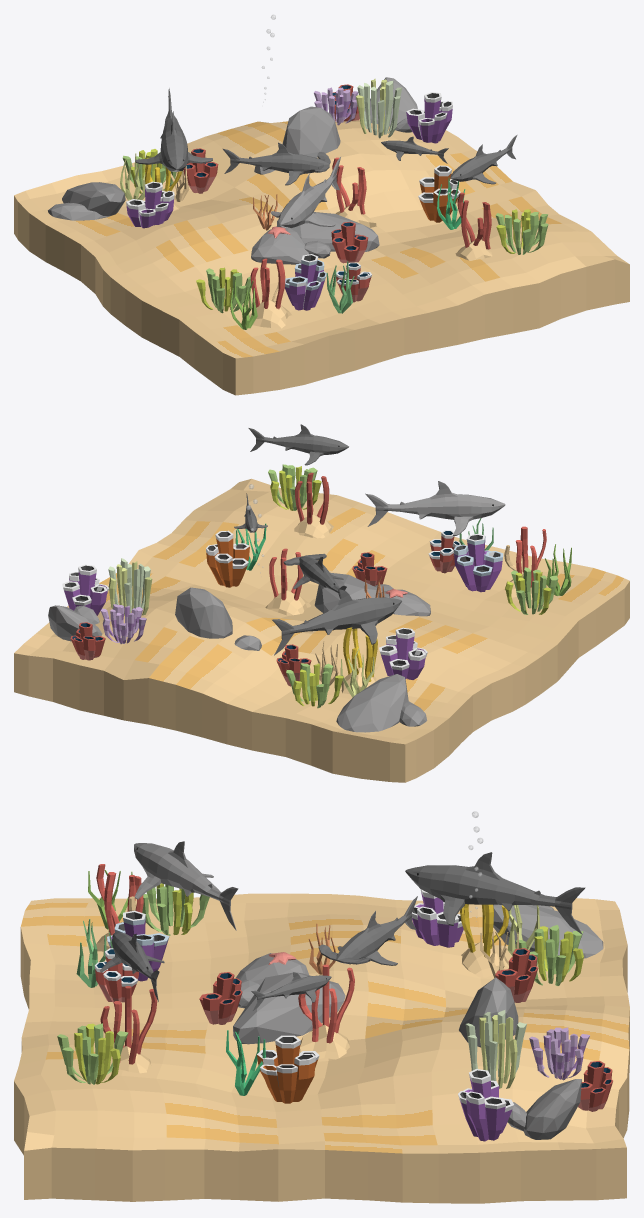
The model's file is vat2.glb.
3 renders of one model, top to bottom at view 1: azimuth 30°, elevation 25°; view 2: azimuth 150°, elevation 25°; view 3: azimuth 270°, elevation 25°, orthographic. The views are drawn at different scales.
Parts seen in each view (by area): view 1: Object_9, Object_6; view 2: Object_9, Object_6; view 3: Object_9, Object_6.
Boxes of the visible parts, <box> form: Object_9: <box>14,77,629,395</box>; Object_6: <box>135,88,517,227</box>; Object_9: <box>14,464,629,782</box>; Object_6: <box>234,424,505,655</box>; Object_9: <box>14,864,629,1203</box>; Object_6: <box>100,841,585,1010</box>.
Size of the model in its own units: 10.78 by 5.45 by 10.8.
2 materials, 1 textured.
